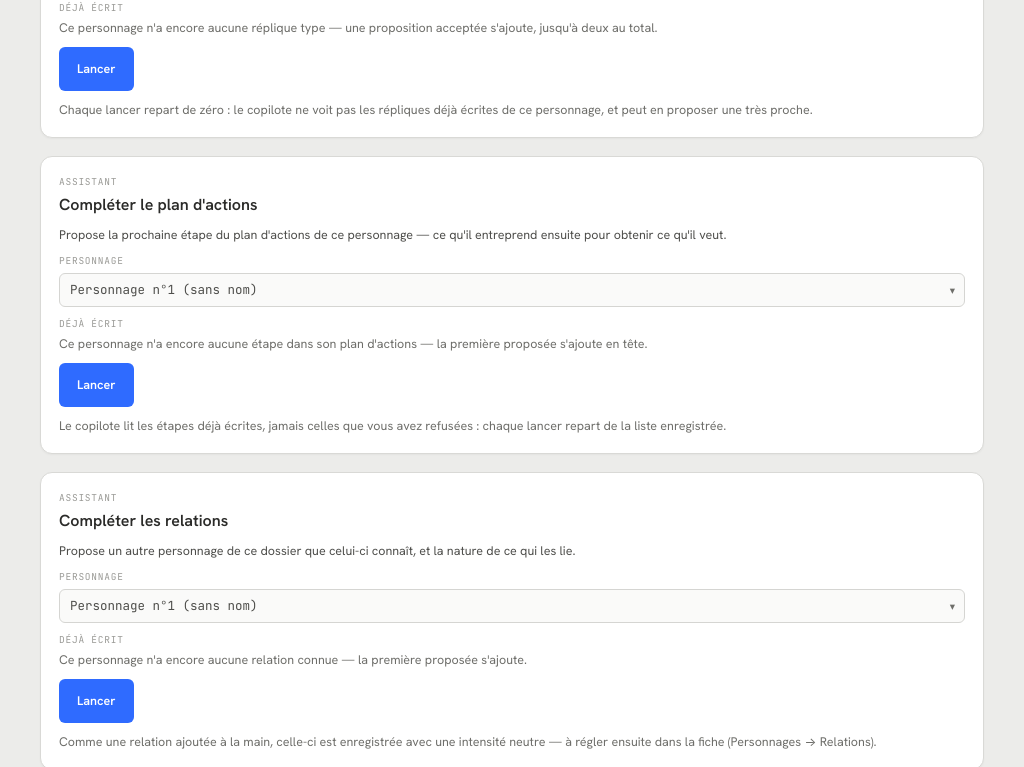
Test case: planActions - ecriture par update, ordre persistance puis evenement › ecriture refusee par validateDossier : rien n est persiste, la proposition reste affichee
(page scrolled)
What coordinates should you click on to do the following:
click the button "Lancer" below "Compléter le plan d'actions"
I would click on:
 (96, 385)
Its box is 59,363 -> 134,407.
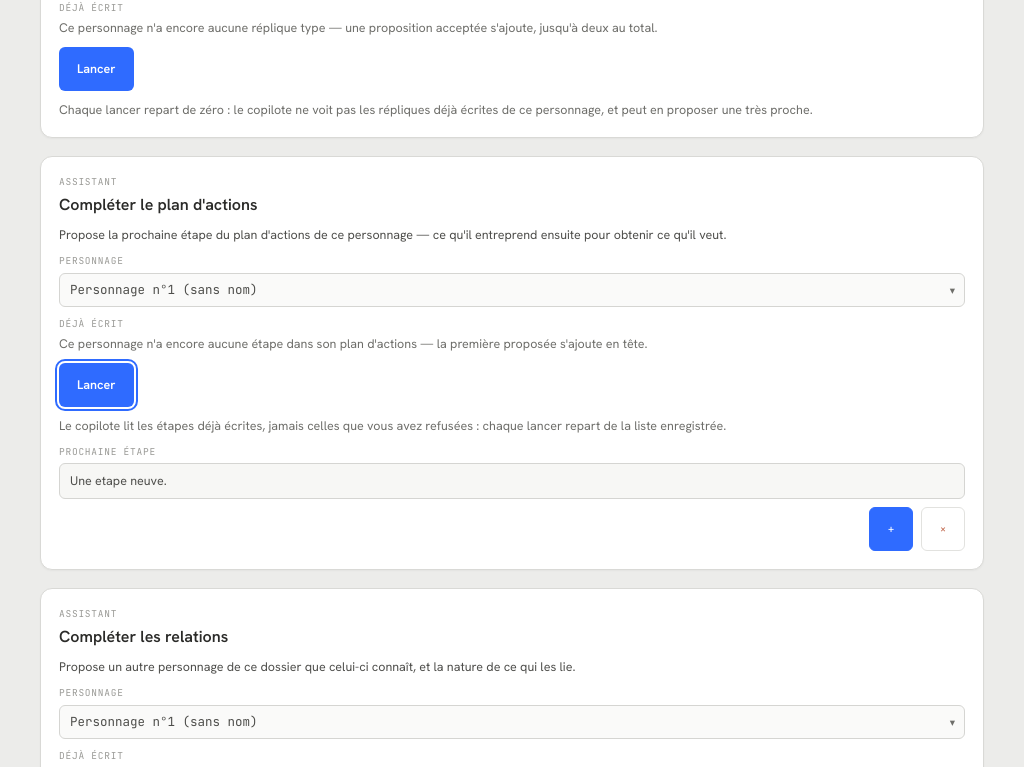
Expected: the button named "Accepter la proposition" is shown
What coordinates should you click on to do the following:
click the button named "Accepter la proposition"
I would click on:
 (891, 529)
Its box is 869,507 -> 913,551.
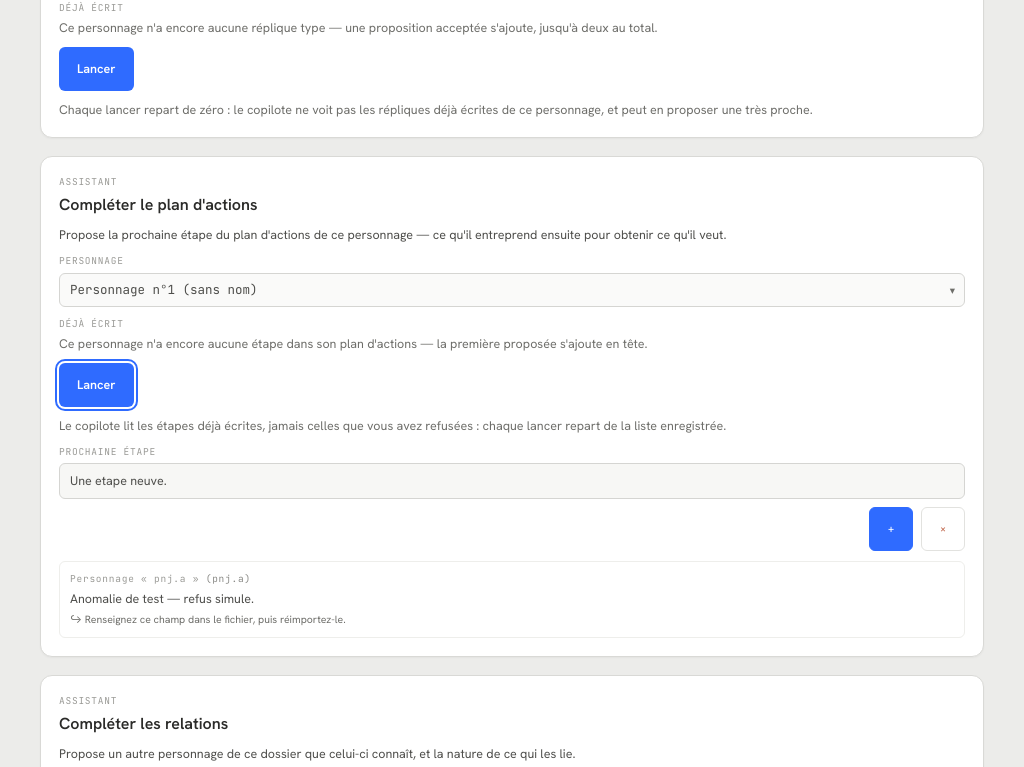
Expected: the button named "Accepter la proposition" is shown, 869,507 -> 913,551
Expected: the button named "Rejeter la proposition" is shown, 921,507 -> 965,551
Expected: the text "Anomalie de test — refus simule." is shown, 70,590 -> 254,607
